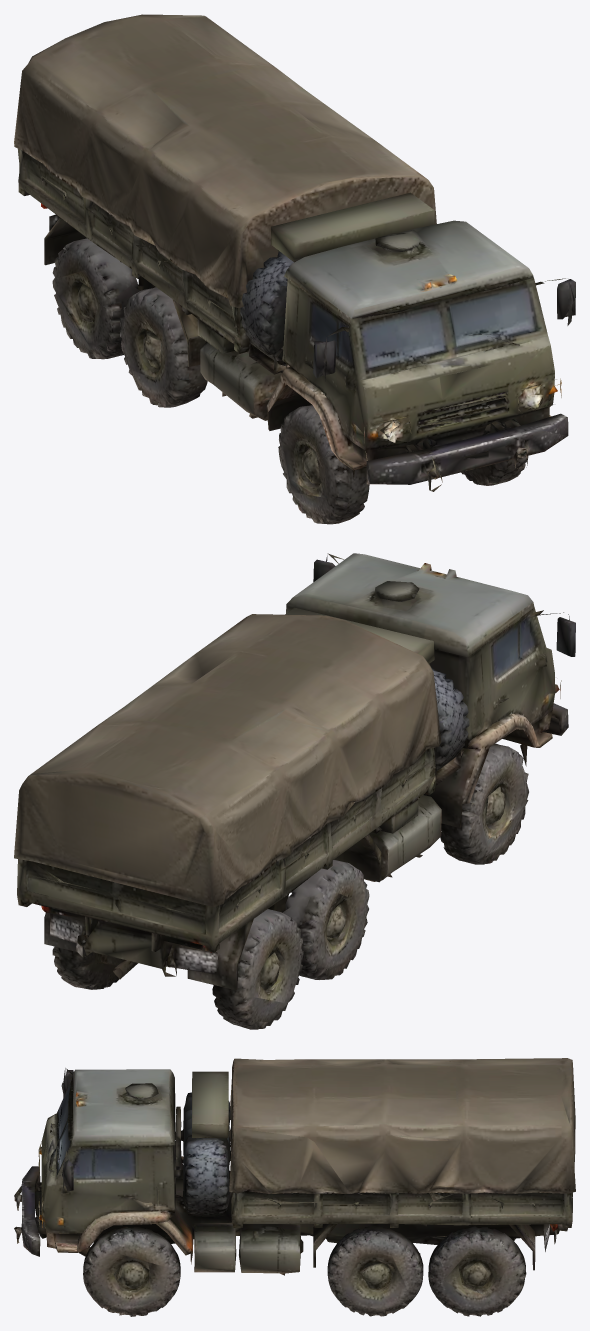
The model's file is car_truck.glb.
The picture shows the model from 3 angles, top to bottom: view 1: azimuth 30°, elevation 25°; view 2: azimuth 150°, elevation 25°; view 3: azimuth 270°, elevation 25°; orthographic projection. The views are drawn at different scales.
Parts seen in each view (by area): view 1: geometry_0; view 2: geometry_0; view 3: geometry_0.
Part boxes in pixels (x1,y1,x2,y2): geometry_0: [14, 14, 575, 524]; geometry_0: [14, 553, 575, 1029]; geometry_0: [14, 1058, 575, 1316].
Bounding box in the file's own units: 0.4527 × 0.4497 × 1.11.
1 material, 1 textured.
